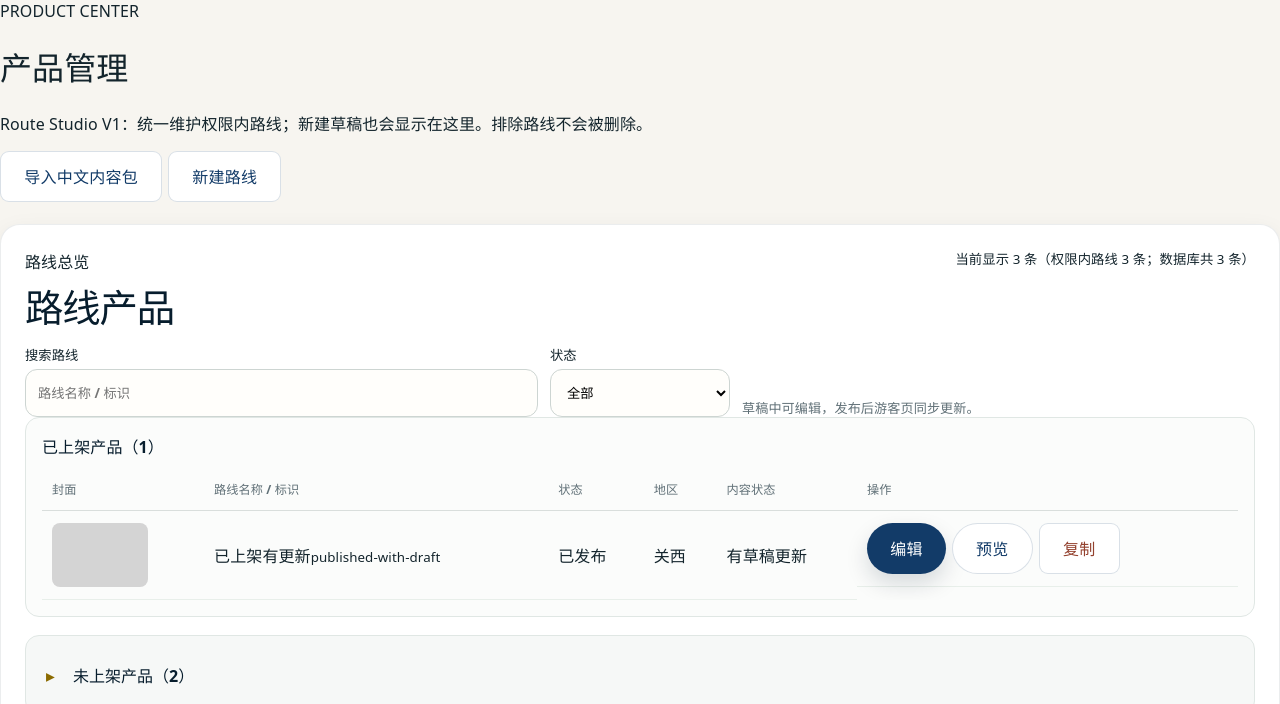
产品列表分区 › 已上架在上方，草稿和已下架默认折叠，但保留各自状态
The image size is (1280, 704).
Expected: the heading "已上架产品（1）" is shown, [42, 436, 164, 458]
Expected: the text "已上架有更新" is shown, [214, 545, 311, 567]
Click the button "▸ 未上架产品（2）" at (121, 676), box [42, 652, 1238, 698]
(page scrolled)
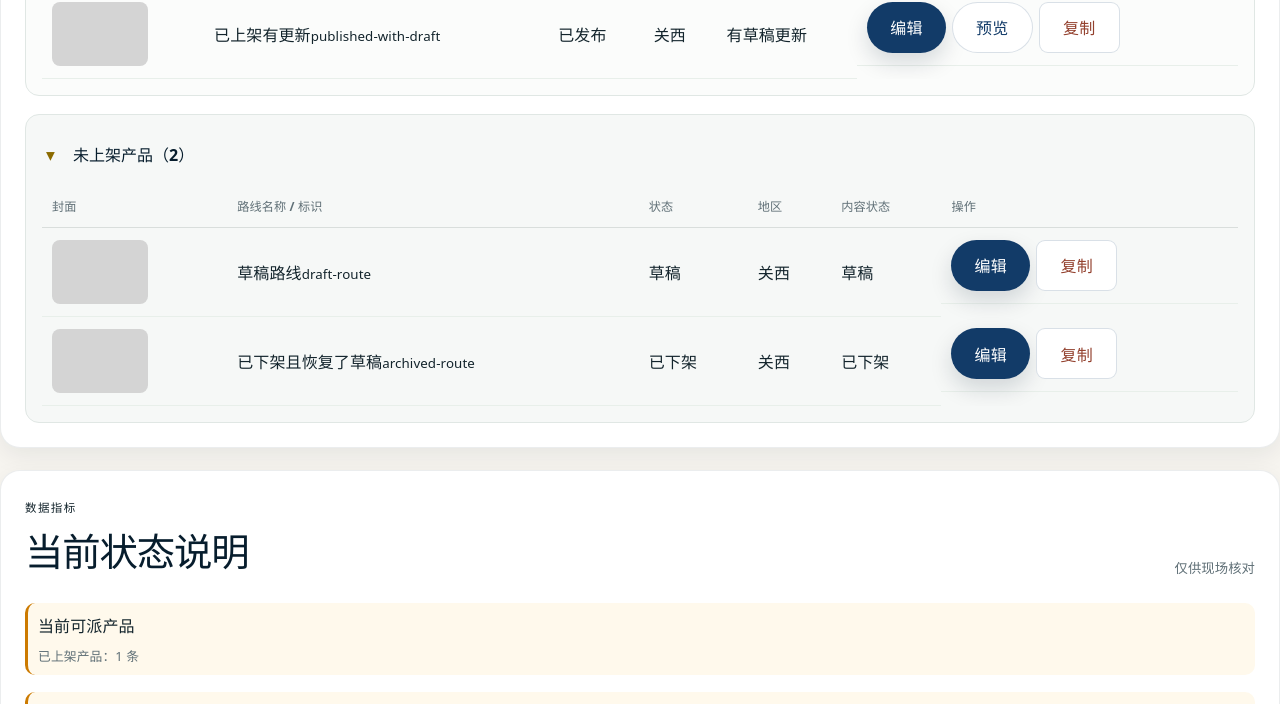
Now the text "草稿路线" is shown, box [237, 262, 302, 284]
Now the 1st text "草稿" is shown, box [639, 227, 748, 316]
Now the 1st text "已下架" is shown, box [639, 316, 748, 405]
